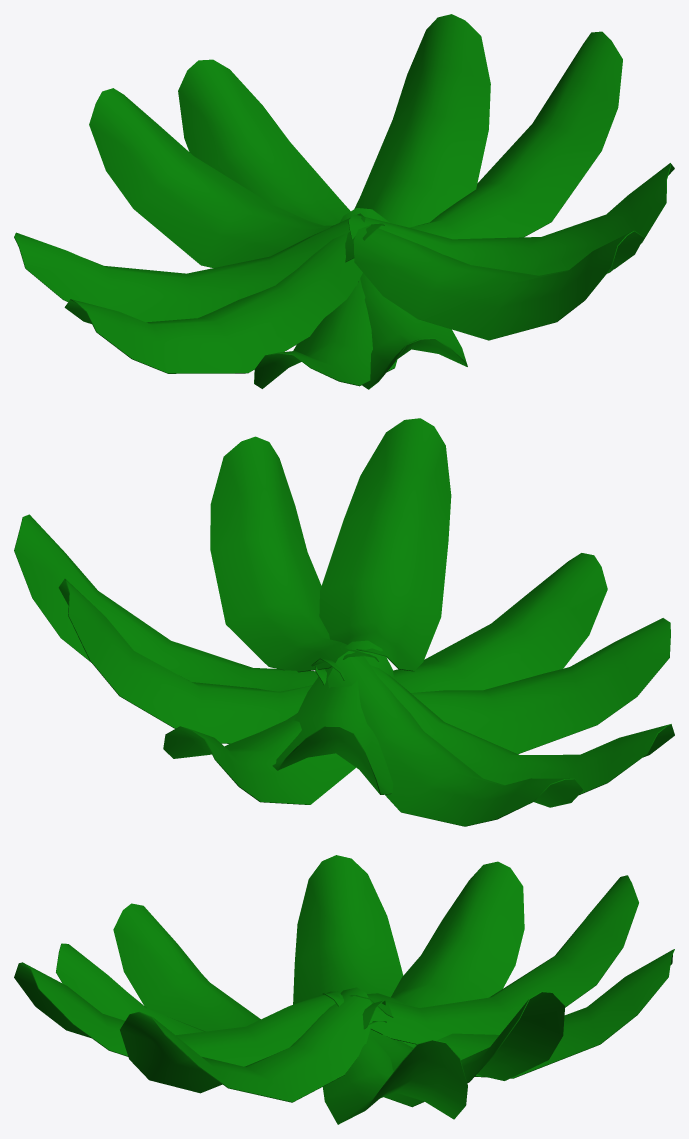
File: banana_Tree2.FBX
3 renders of one model, top to bottom at view 1: azimuth 30°, elevation 25°; view 2: azimuth 150°, elevation 25°; view 3: azimuth 270°, elevation 25°, orthographic. The views are drawn at different scales.
Parts seen in each view (by area): view 1: Plane010, Plane011, Plane006, Plane002, Plane009, Plane005, Plane004, Plane007, Plane003, Plane008; view 2: Plane002, Plane007, Plane003, Plane008, Plane004, Plane011, Plane006, Plane009, Plane005, Plane010; view 3: Plane007, Plane004, Plane010, Plane009, Plane002, Plane003, Plane006, Plane011, Plane005, Plane008.
Boxes of the visible parts, x1,y1,x2,y2 form: Plane010: (89, 88, 384, 267); Plane011: (354, 14, 490, 227); Plane006: (409, 31, 622, 239); Plane002: (353, 225, 644, 340); Plane009: (64, 233, 362, 373); Plane005: (178, 59, 350, 225); Plane004: (14, 213, 365, 322); Plane007: (348, 163, 674, 275); Plane003: (254, 278, 397, 388); Plane008: (340, 208, 467, 389); Plane002: (319, 418, 451, 671); Plane007: (210, 436, 378, 672); Plane003: (315, 618, 670, 754); Plane008: (311, 553, 607, 692); Plane004: (327, 651, 582, 826); Plane011: (58, 579, 312, 743); Plane006: (14, 514, 318, 691); Plane009: (370, 665, 674, 795); Plane005: (163, 713, 355, 804); Plane010: (272, 640, 393, 794); Plane007: (120, 987, 375, 1102); Plane004: (350, 861, 524, 1017); Plane010: (322, 875, 638, 1044); Plane009: (293, 855, 403, 1004); Plane002: (14, 962, 342, 1066); Plane003: (113, 903, 386, 1031); Plane006: (322, 1034, 467, 1124); Plane011: (369, 991, 565, 1107); Plane005: (401, 949, 674, 1078); Plane008: (56, 943, 385, 1035).
Bounding box in the file's own units: 244 × 77.11 × 240.
